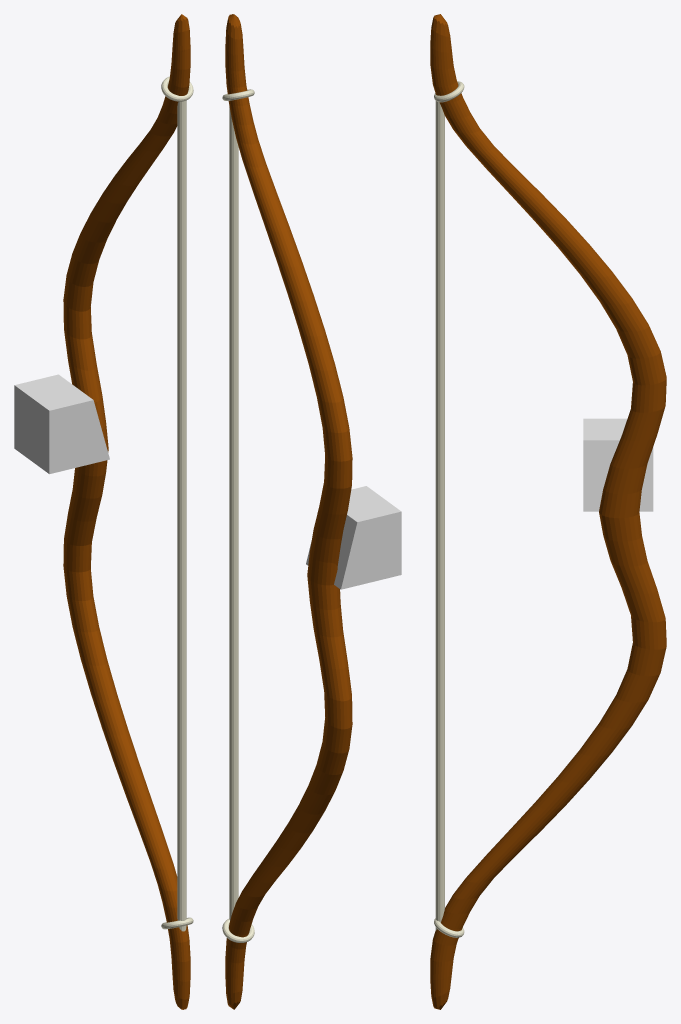
The model's file is Bow_V1.fbx.
3 renders of one model, left to right at view 1: azimuth 30°, elevation 25°; view 2: azimuth 210°, elevation 25°; view 3: azimuth 270°, elevation 25°, orthographic.
Parts seen in each view (by area): view 1: Bow, Cylinder, Arrow Shelf, Torus; view 2: Bow, Cylinder, Arrow Shelf, Torus; view 3: Bow, Cylinder, Arrow Shelf.
Part boxes in pixels (<box>): Bow: <box>63,14,190,1009</box>; Cylinder: <box>177,100,186,931</box>; Arrow Shelf: <box>14,374,109,474</box>; Torus: <box>161,76,193,929</box>; Bow: <box>225,14,352,1009</box>; Cylinder: <box>229,106,238,920</box>; Arrow Shelf: <box>306,486,401,589</box>; Torus: <box>222,89,254,942</box>; Bow: <box>430,14,666,1009</box>; Cylinder: <box>435,101,444,930</box>; Arrow Shelf: <box>583,418,653,511</box>.
Bounding box in the file's own units: 37.18 × 471 × 101.
